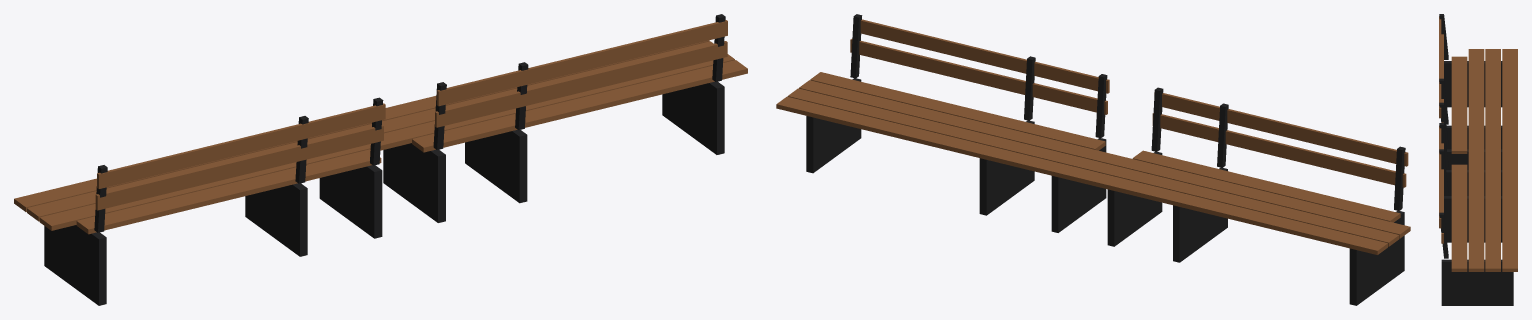
3 renders of one model, left to right at view 1: azimuth 30°, elevation 25°; view 2: azimuth 150°, elevation 25°; view 3: azimuth 270°, elevation 25°, orthographic. The views are drawn at different scales.
Visible parts, largest first — view 1: parametric-variant-bench-3rd-00812e1bdff63cae5c92; view 2: parametric-variant-bench-3rd-00812e1bdff63cae5c92; view 3: parametric-variant-bench-3rd-00812e1bdff63cae5c92.
Boxes of the visible parts, x1=… form: parametric-variant-bench-3rd-00812e1bdff63cae5c92: x1=14, y1=14, x2=747, y2=305; parametric-variant-bench-3rd-00812e1bdff63cae5c92: x1=776, y1=14, x2=1410, y2=305; parametric-variant-bench-3rd-00812e1bdff63cae5c92: x1=1439, y1=14, x2=1517, y2=305.
Bounding box in the file's own units: 4.4 × 0.85 × 0.6674.
